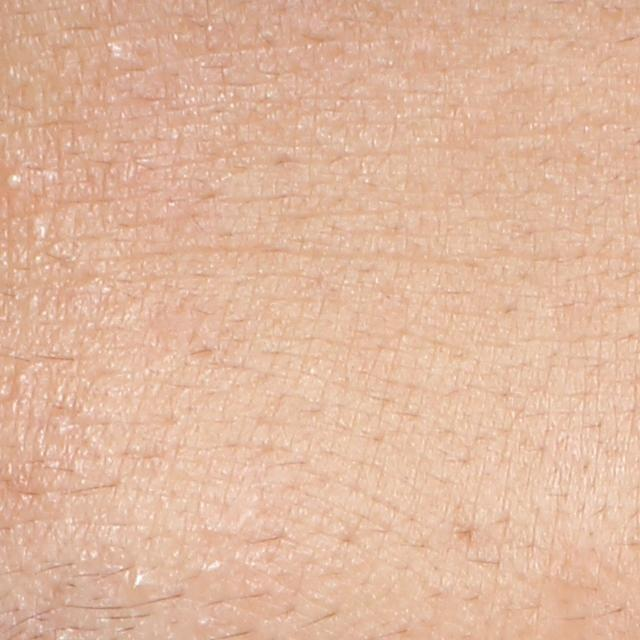comedo: (28, 212, 49, 243), (5, 169, 28, 194), (128, 572, 147, 596)
